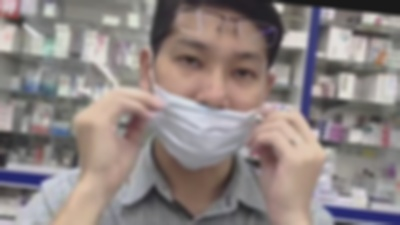mask_weared_incorrect: (147, 1, 272, 162)
